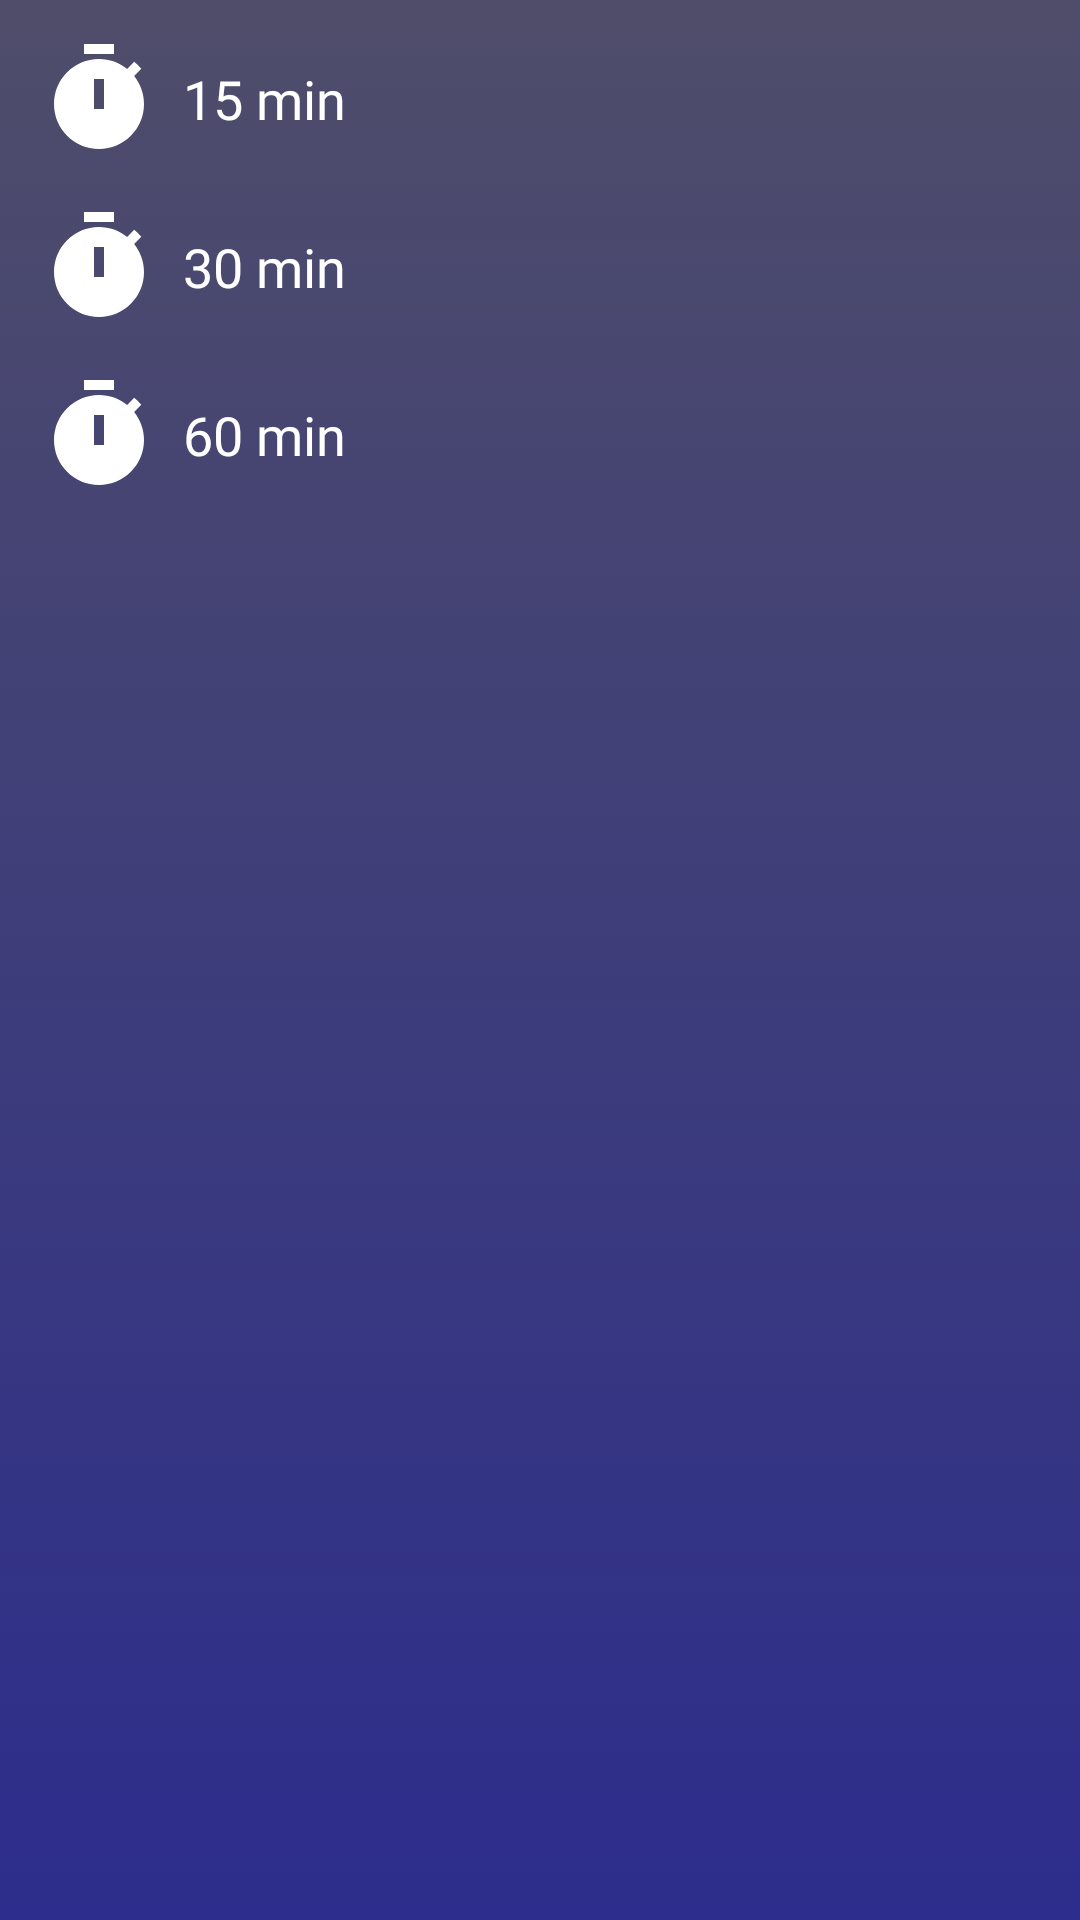

Locate icon controls on the screen. Image size 1080×1920, boxes as {"left": x1, "top": y1, "right": x2, "bottom": y2}.
timer: {"left": 54, "top": 44, "right": 144, "bottom": 149}, {"left": 54, "top": 212, "right": 144, "bottom": 317}, {"left": 54, "top": 380, "right": 144, "bottom": 485}
